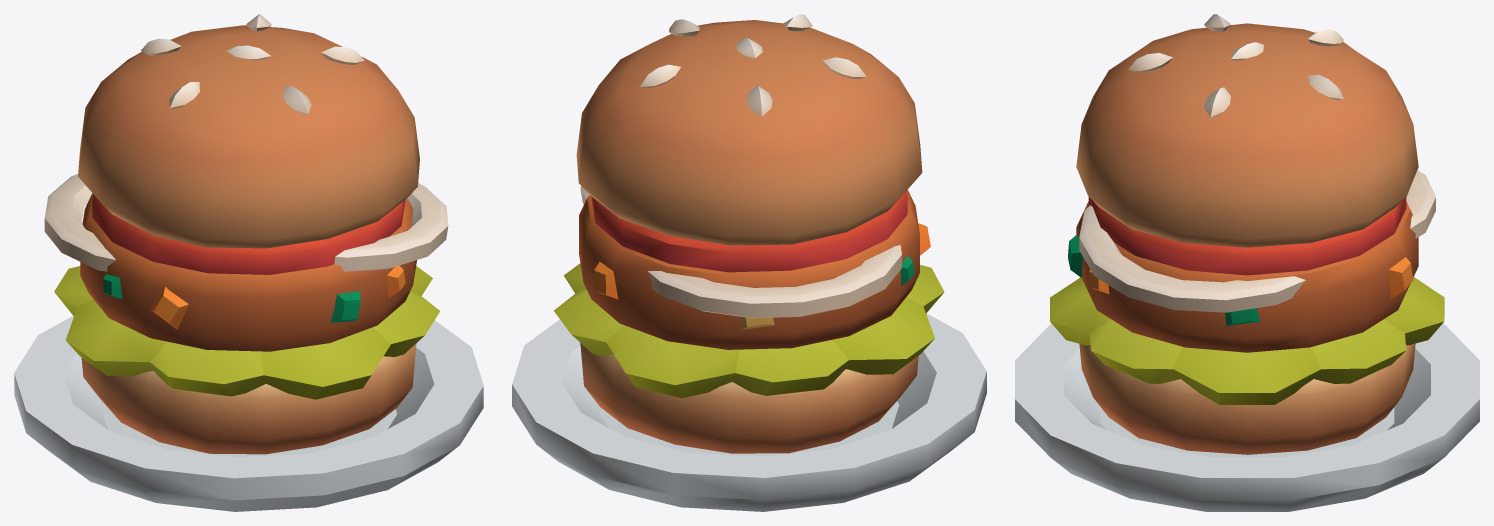
The model's file is vegetableburger.glb.
The picture shows the model from 3 angles, left to right: view 1: azimuth 30°, elevation 25°; view 2: azimuth 150°, elevation 25°; view 3: azimuth 270°, elevation 25°; orthographic projection.
Parts seen in each view (by area): view 1: food_vegetableburger_Cylinder.179; view 2: food_vegetableburger_Cylinder.179; view 3: food_vegetableburger_Cylinder.179.
Part boxes in pixels (box(x1,y1,x2,y2)): food_vegetableburger_Cylinder.179: box(14, 14, 483, 511); food_vegetableburger_Cylinder.179: box(512, 14, 986, 511); food_vegetableburger_Cylinder.179: box(1015, 14, 1479, 511).
Size of the model in its own units: 0.95 by 0.8572 by 0.95.
1 material, 1 textured.
